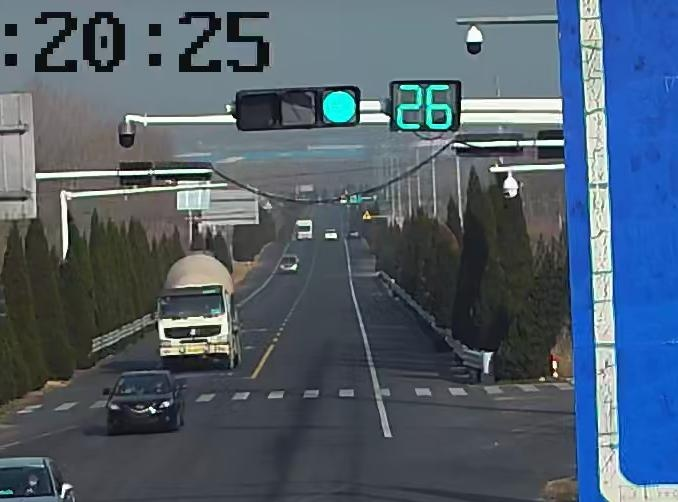green: (320, 90, 357, 125)
greentime: (395, 80, 458, 132)
